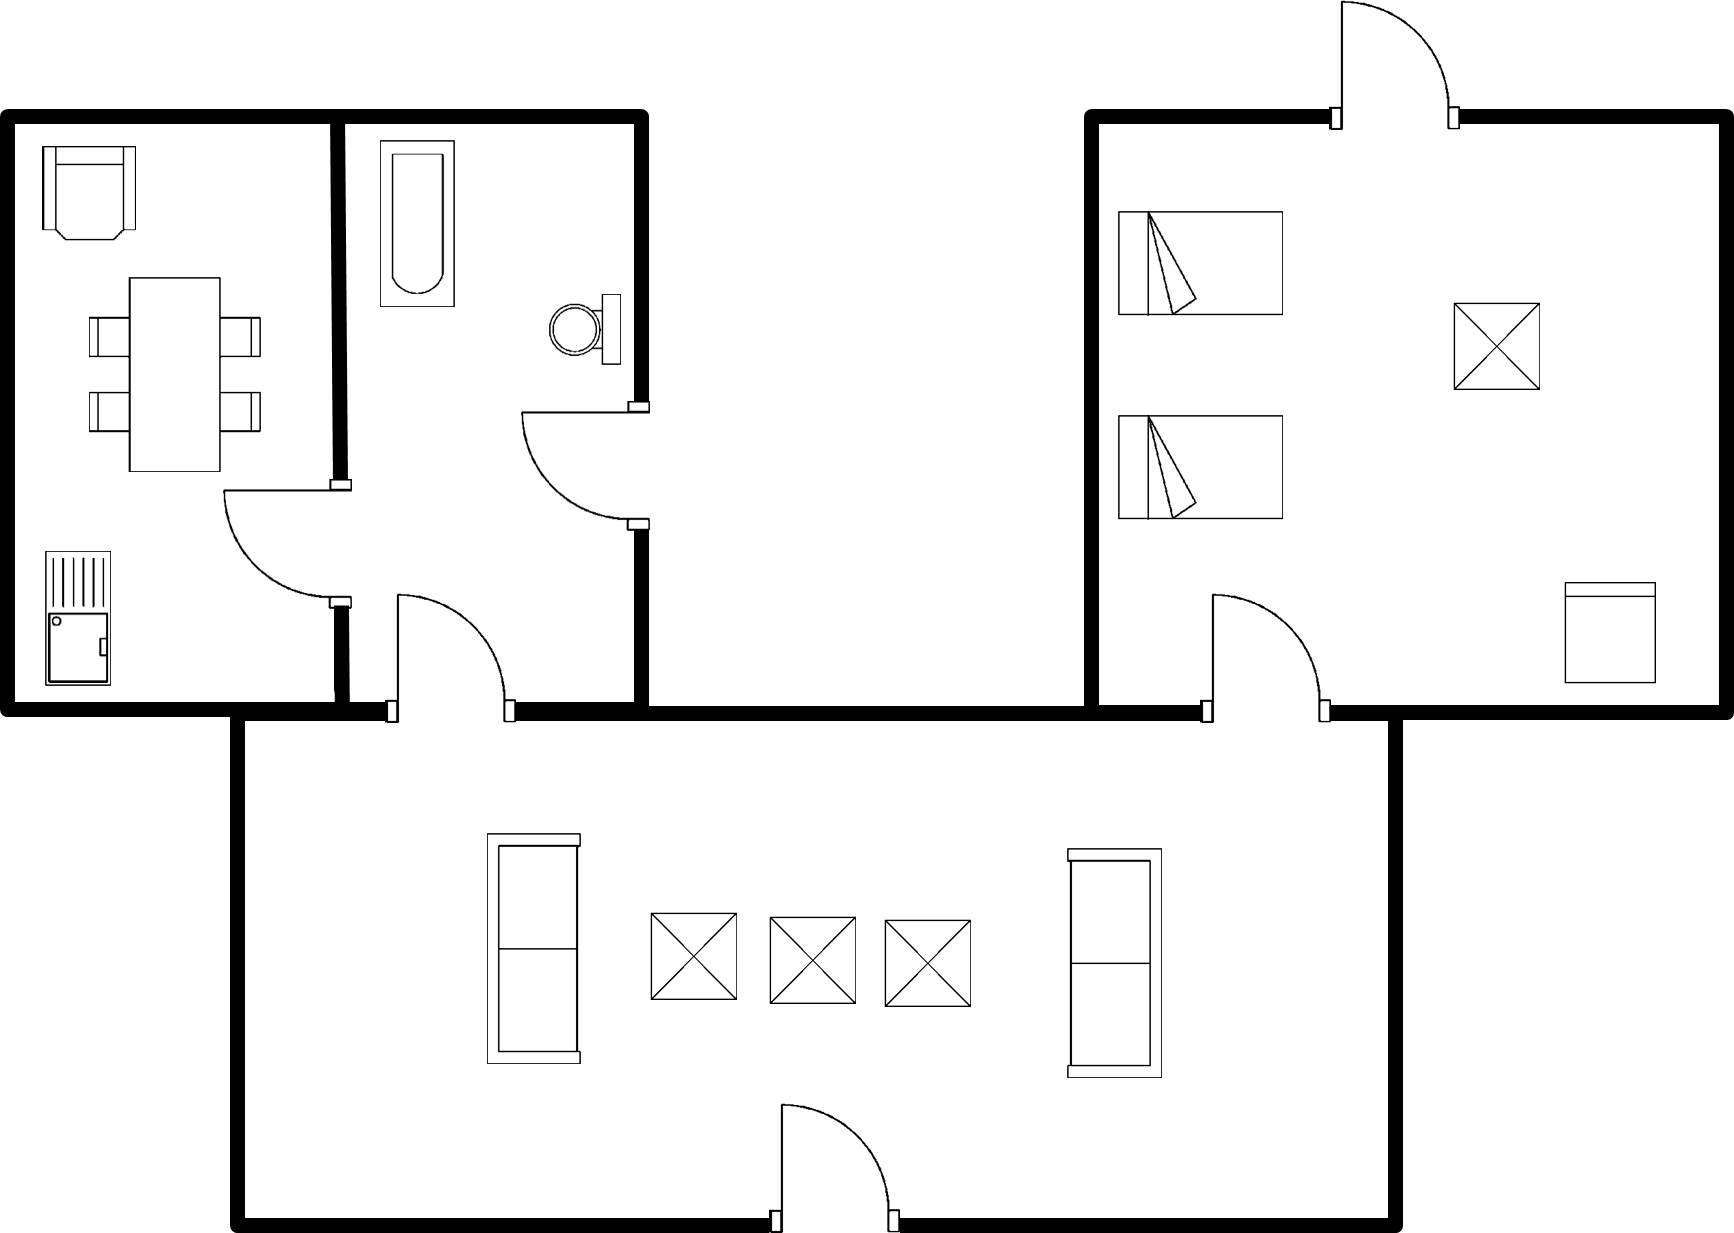armchair: (32, 138, 145, 253)
bed: (1108, 202, 1294, 328), (1109, 407, 1292, 532)
coffee_table: (875, 912, 984, 1020), (1446, 290, 1548, 404), (640, 904, 746, 1007), (762, 910, 867, 1014)
dining_table: (78, 269, 267, 480)
large_sink: (537, 283, 627, 377)
large_sofa: (478, 826, 595, 1077), (1056, 837, 1171, 1090)
sink: (34, 543, 126, 696)
small_sofa: (1552, 572, 1666, 691)
tub: (372, 132, 463, 315)
